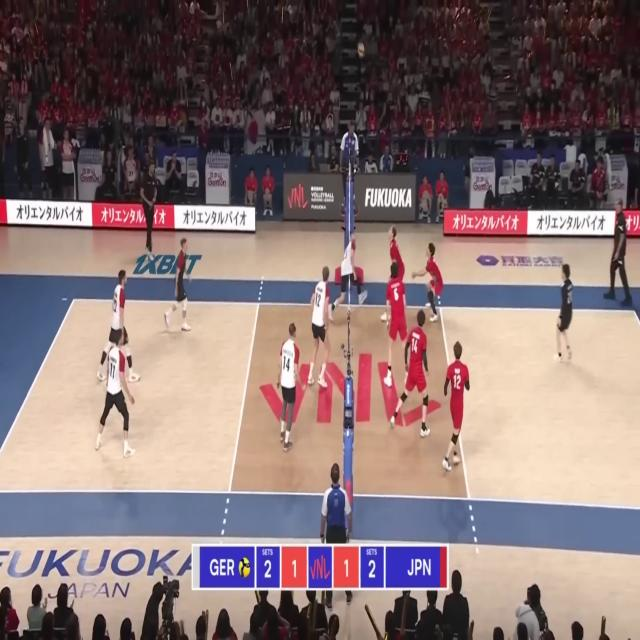referee: (320, 463, 354, 609)
team_one: (95, 328, 140, 457), (97, 270, 141, 384), (328, 230, 368, 329), (276, 321, 306, 452), (307, 266, 330, 390), (164, 238, 192, 333)
team_two: (391, 308, 432, 438), (442, 341, 470, 474), (384, 263, 409, 387), (411, 242, 444, 323), (381, 225, 407, 322), (556, 263, 574, 364)
